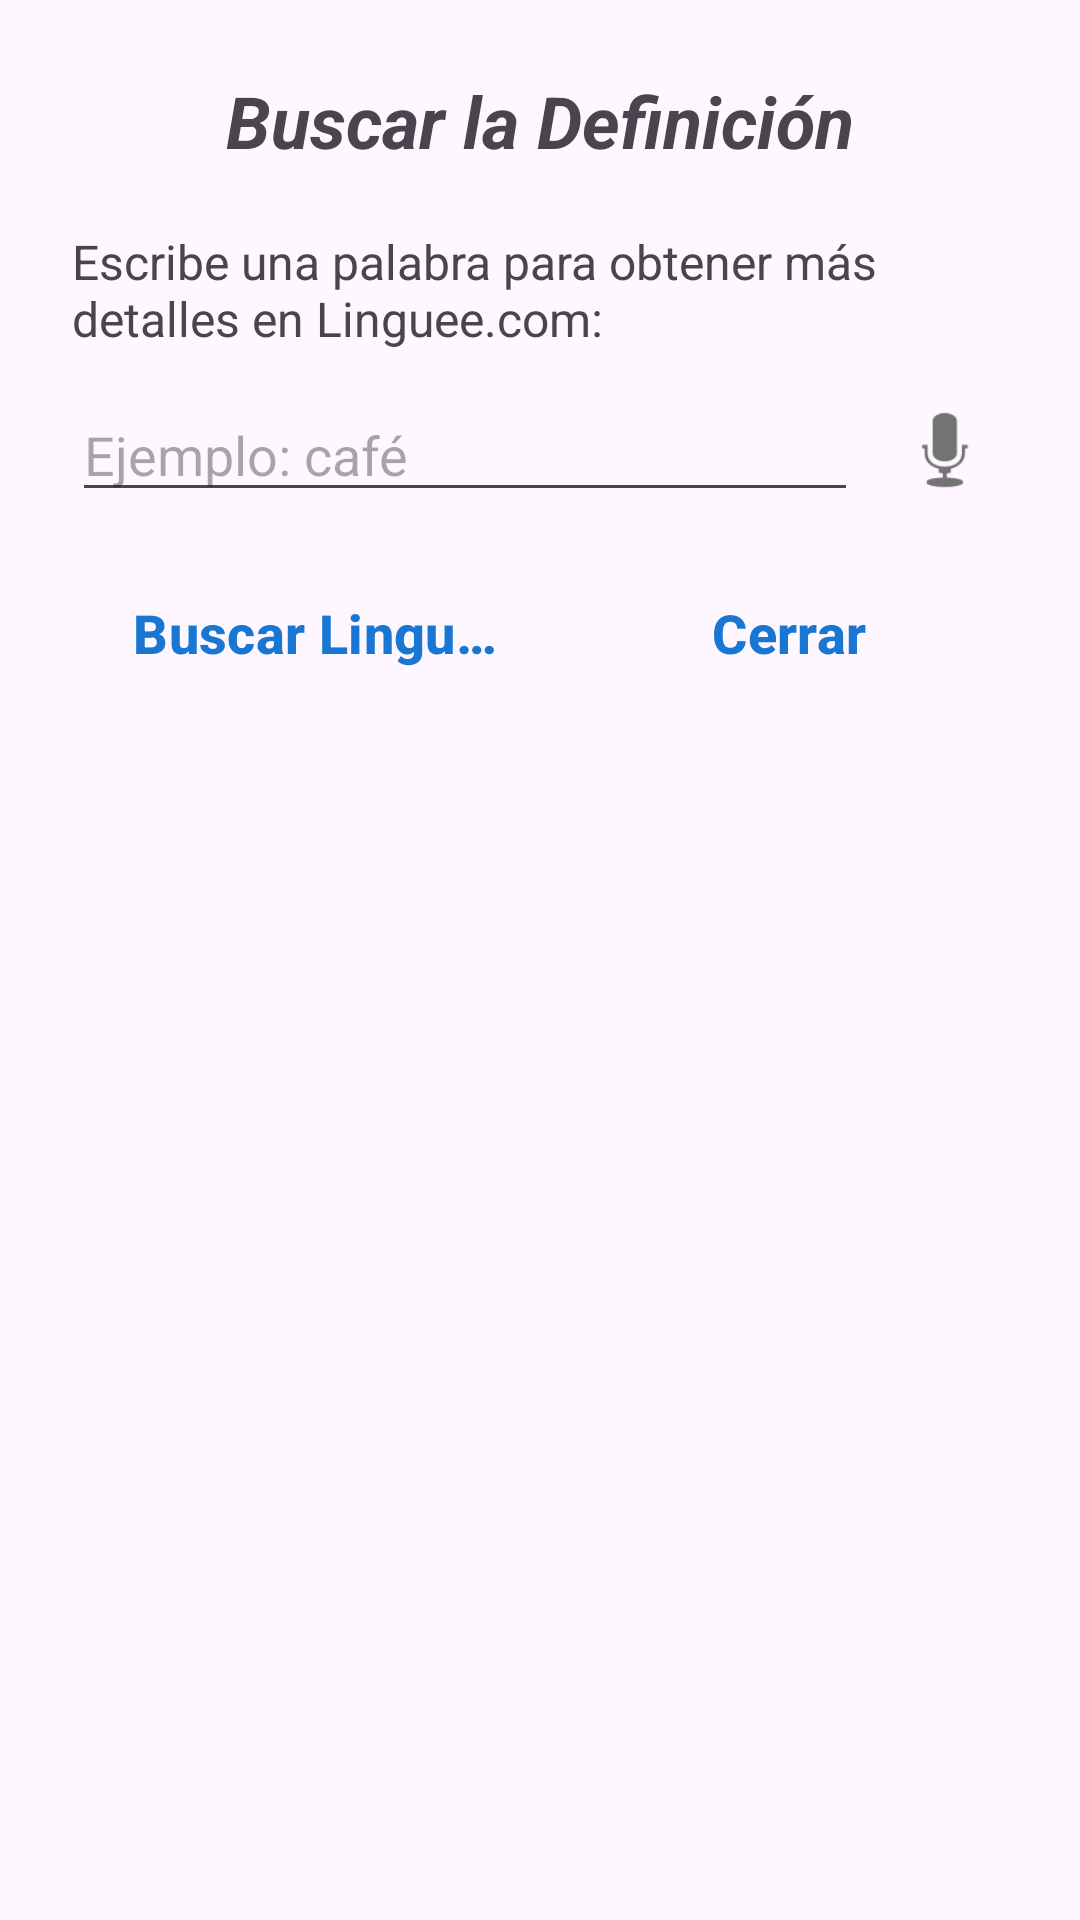

Screen size 1080x1920. Icon name, then its center in pixels as (x=x, y=y):
Di la palabra para escribirla: (x=945, y=450)
